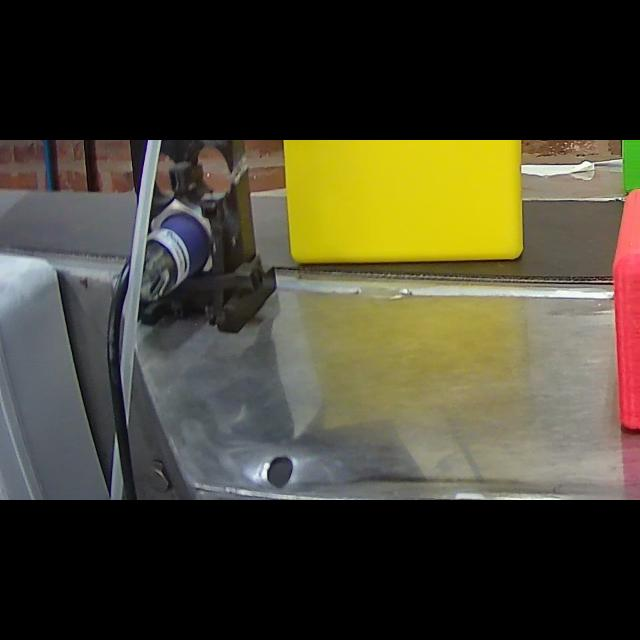greenBox: (618, 140, 640, 186)
redBox: (612, 180, 640, 444)
yellowBox: (276, 140, 534, 266)
